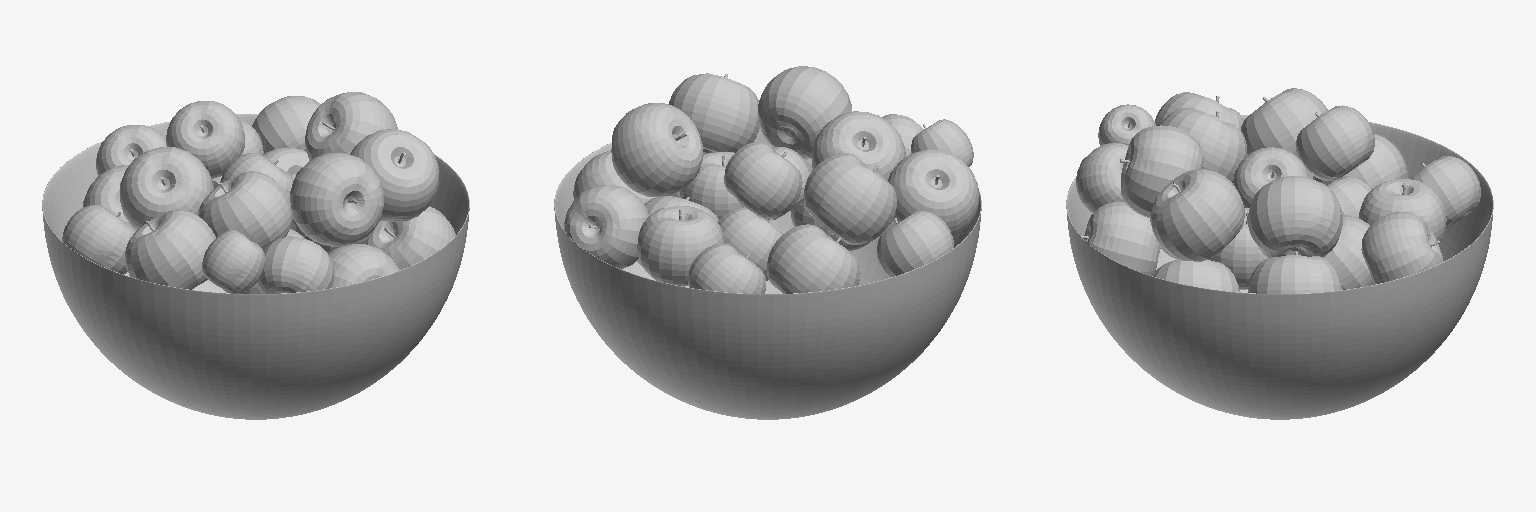
The model's file is apple_bowl.obj.
The picture shows the model from 3 angles: view 1: azimuth 30°, elevation 25°; view 2: azimuth 150°, elevation 25°; view 3: azimuth 270°, elevation 25°; orthographic projection.
Size of the model in its own units: 7.47 by 5.29 by 7.47.